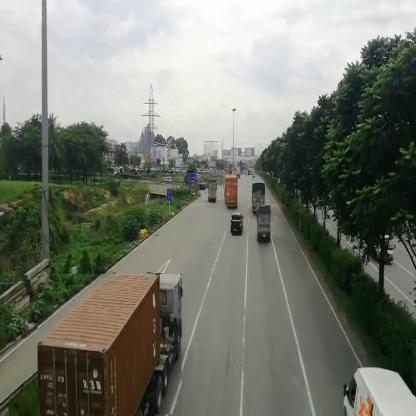car: (344, 369, 415, 416), (233, 211, 245, 238)
container: (38, 275, 183, 416), (226, 176, 238, 207)
truck: (259, 207, 272, 245), (253, 185, 266, 208), (209, 179, 217, 204)
